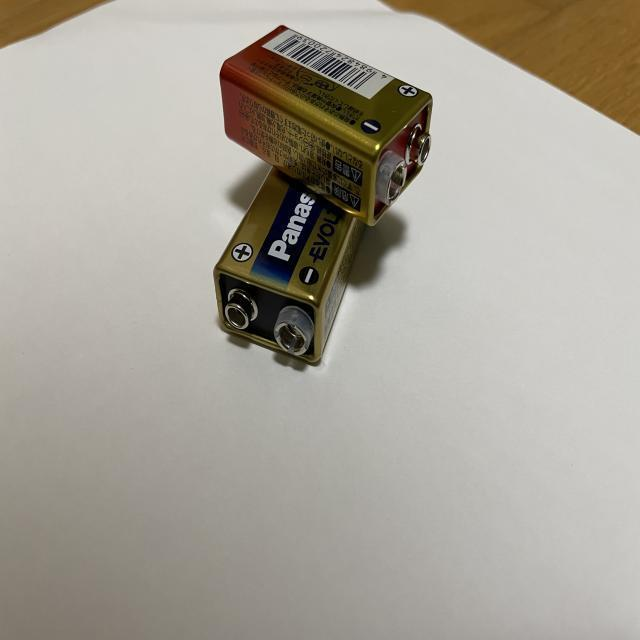9V: (219, 25, 434, 224), (214, 166, 375, 367)
